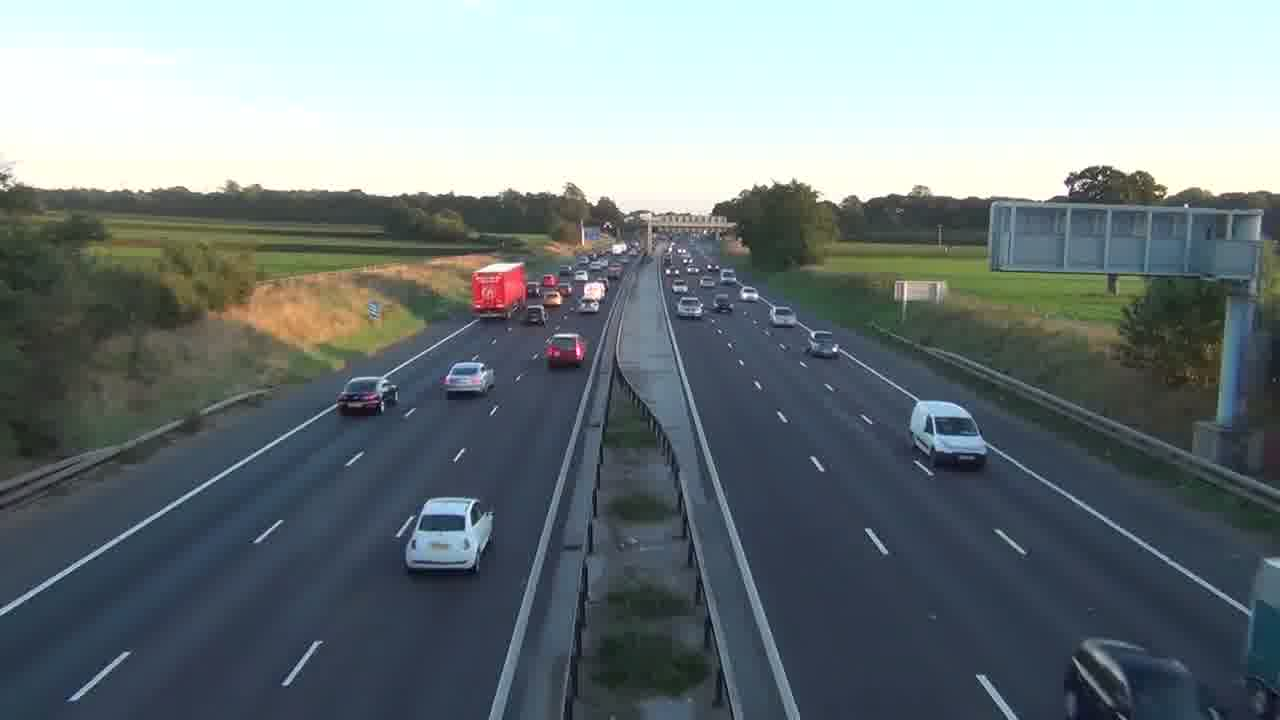car: (394, 496, 496, 576), (908, 398, 989, 471), (335, 376, 387, 417), (440, 360, 495, 397), (544, 331, 587, 369)
truck: (908, 398, 989, 471)
